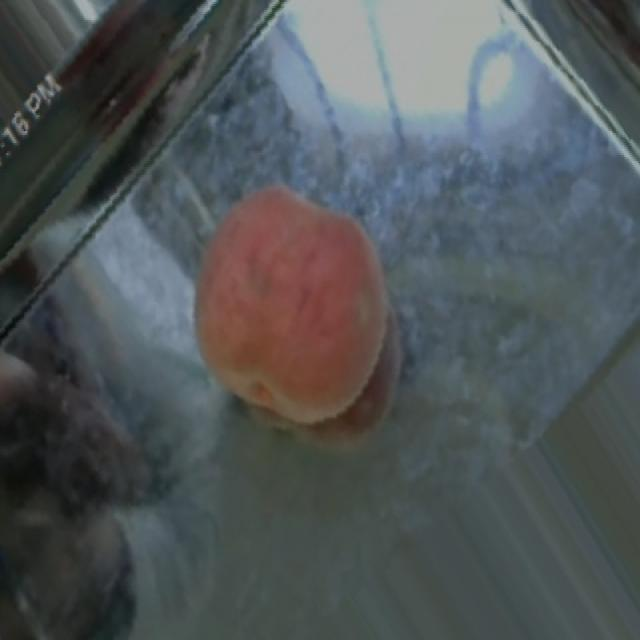Fruit: (159, 153, 424, 447)
